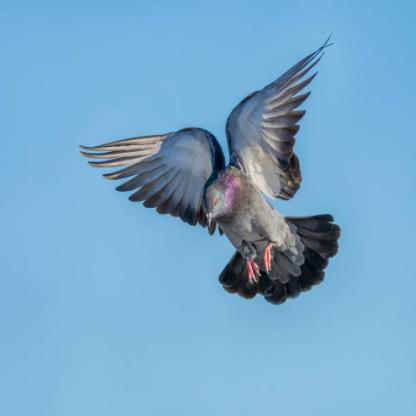Rock Pigeon: (103, 85, 344, 313)
